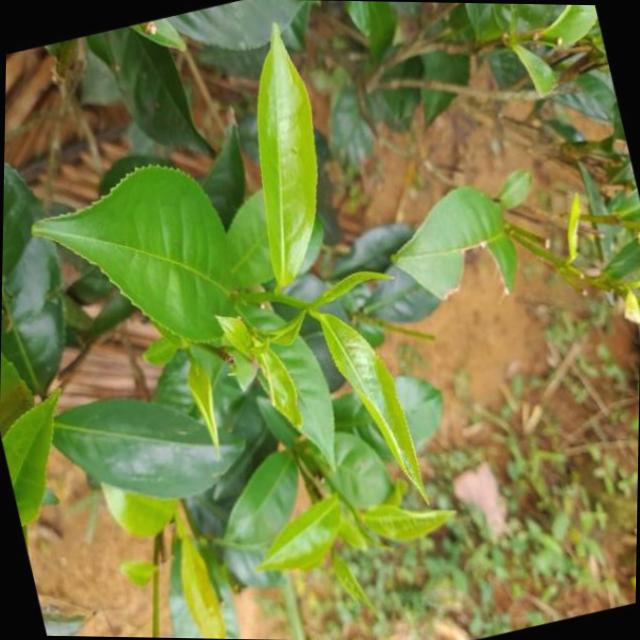Stem: (259, 292, 274, 301)
